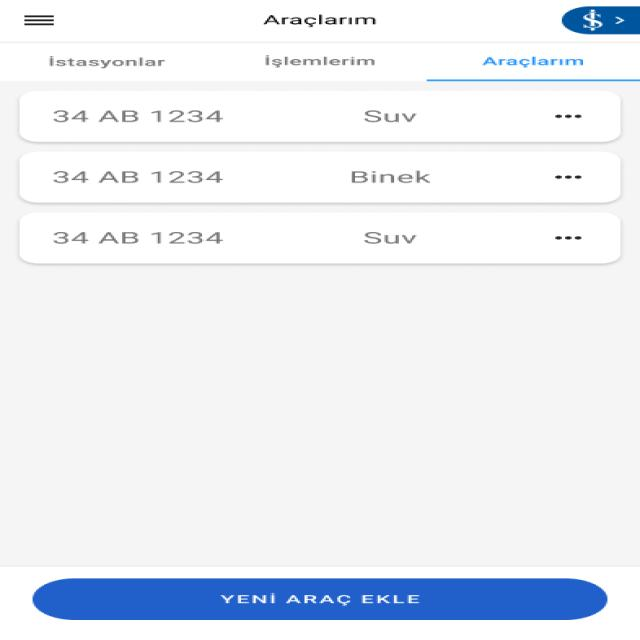QLabel: (42, 105, 226, 126), (213, 592, 423, 608), (42, 168, 226, 186), (43, 230, 224, 247), (36, 52, 174, 72), (258, 11, 380, 30), (466, 54, 596, 70), (253, 54, 380, 69), (342, 168, 437, 188), (357, 229, 421, 249), (356, 106, 422, 125), (544, 232, 590, 244), (545, 171, 587, 183), (548, 110, 586, 123)
VAppBar: (0, 0, 640, 44)
VBtn: (31, 578, 606, 621)
VCard: (15, 211, 626, 266), (15, 152, 623, 206), (19, 90, 620, 144)
VFooter: (0, 565, 640, 640)
VIcon: (19, 12, 56, 28)
VImg: (560, 6, 640, 34)
VTab: (417, 50, 635, 74), (15, 50, 204, 77), (238, 49, 398, 75)
VTabs: (0, 45, 640, 83)
